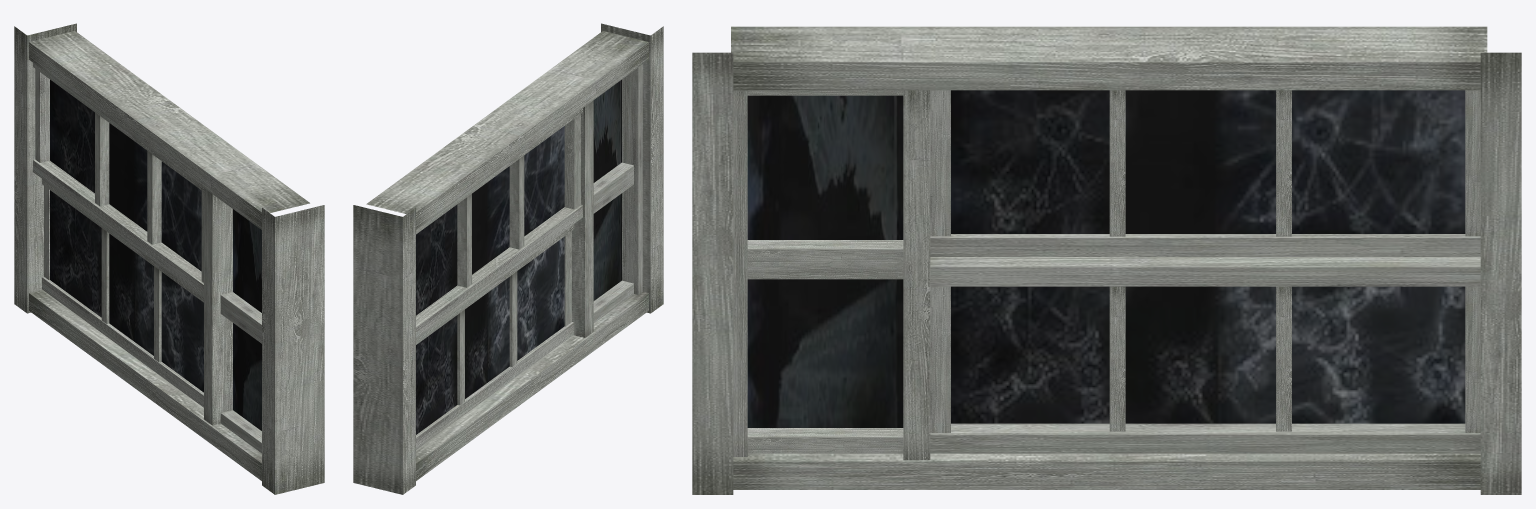
The model's file is caen_window_white_broken_3.glb.
3 renders of one model, left to right at view 1: azimuth 30°, elevation 25°; view 2: azimuth 150°, elevation 25°; view 3: azimuth 270°, elevation 25°, orthographic. The views are drawn at different scales.
Bounding box in the file's own units: 7.98 × 42.72 × 72.59.
1 material, 1 textured.
